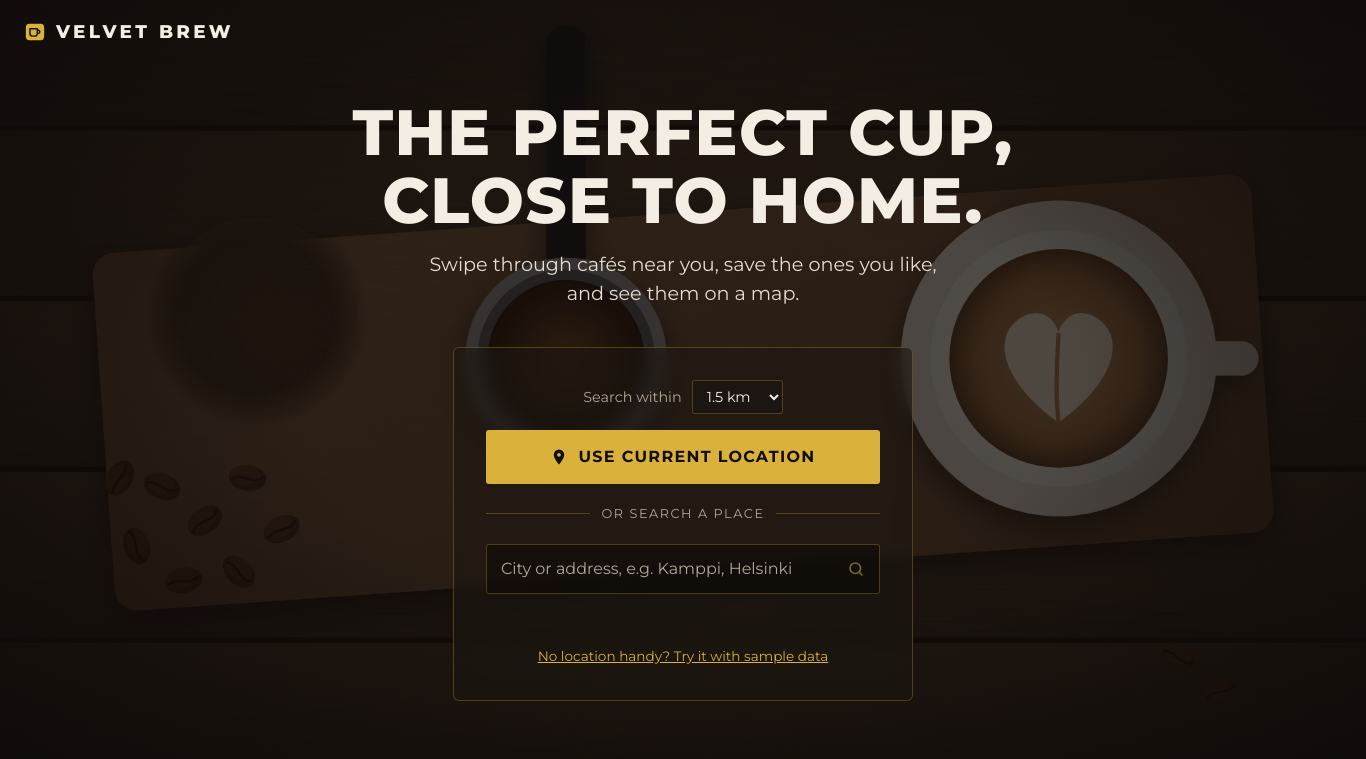
App › searches around a typed place with the chosen radius
The image size is (1366, 759).
Select "3.0 km" in the dropdown labelled "Search within" at (737,397), box [692, 380, 783, 414]
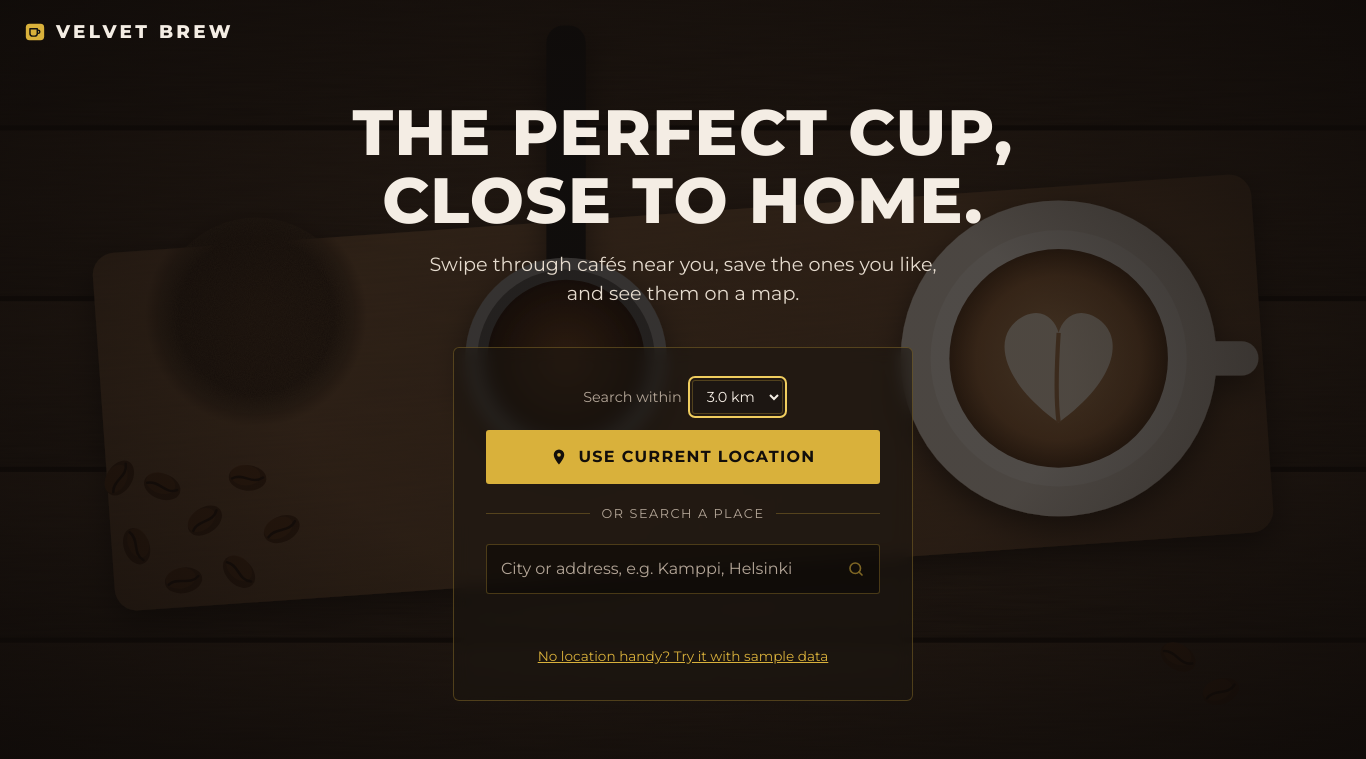
Type "Kamppi" into the search field labelled "City or address, e.g. Kamppi, Helsinki".
click(660, 569); type("Kamppi")  # box [487, 545, 833, 593]
Then press Enter
(page scrolled)
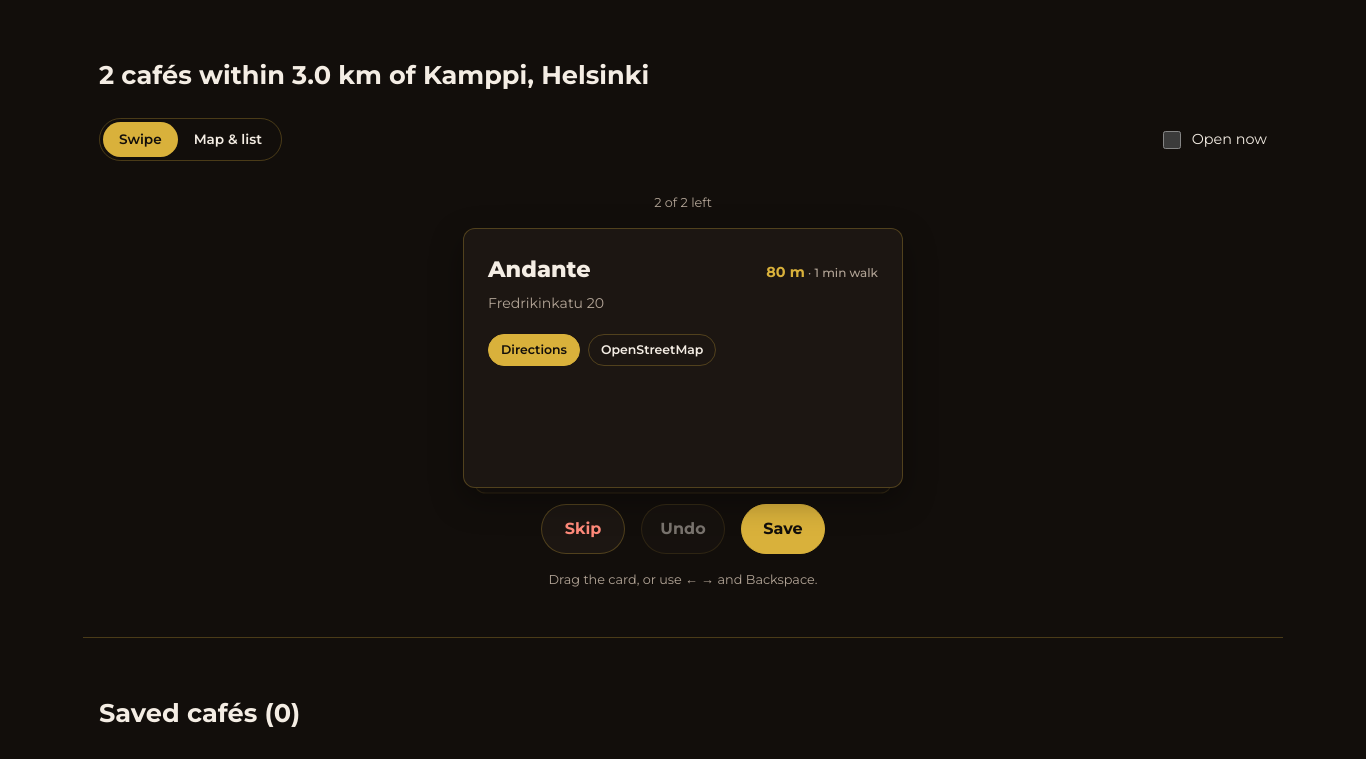
Now the heading "2 cafés within 3.0 km of Kamppi, Helsinki" is shown, box [99, 59, 649, 90]
